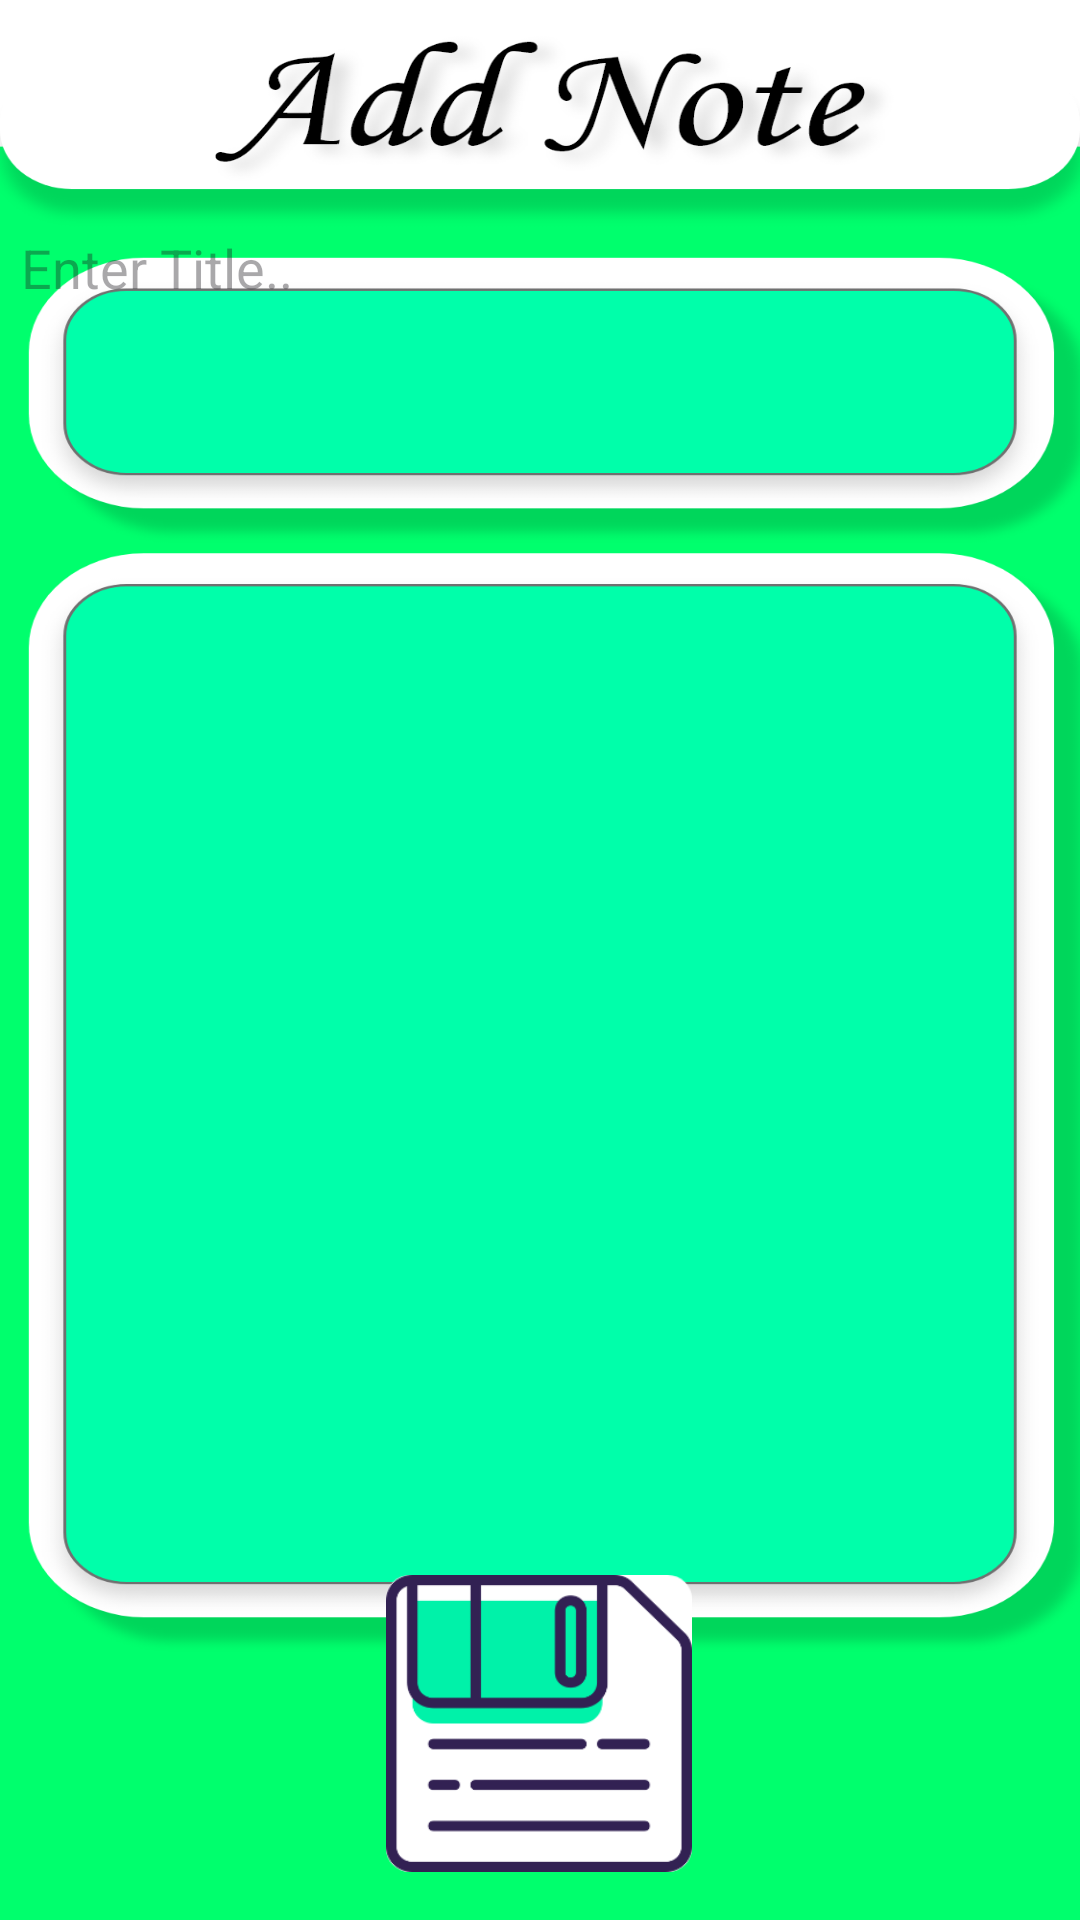

Named icons in this screenshot (1080 x 1920) and their centers, point (x, y):
buttonsave: point (539, 1723)
